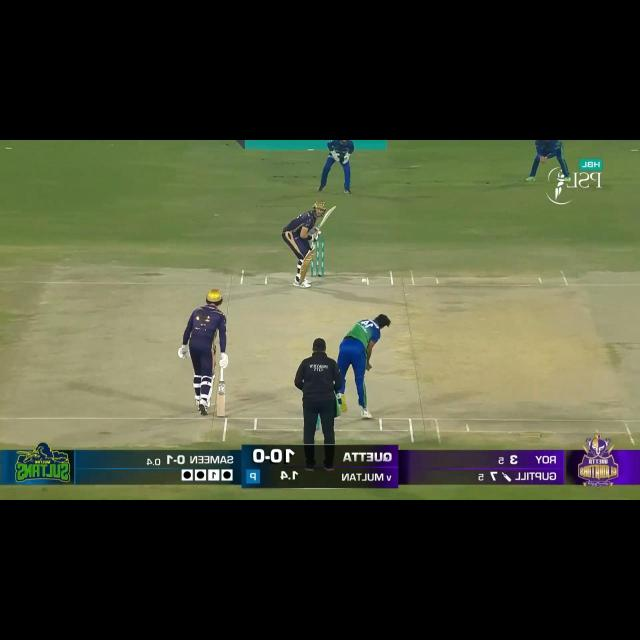bat: (216, 378, 228, 418), (317, 204, 335, 229)
toe: (215, 411, 227, 418), (330, 203, 338, 212)
